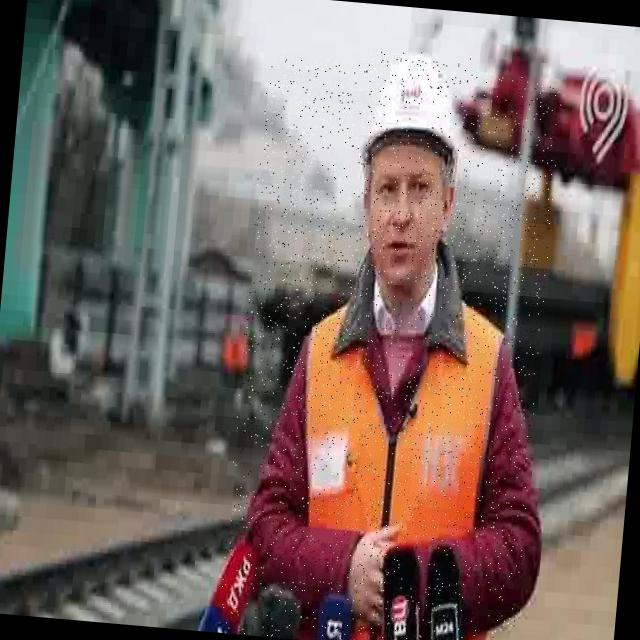hard_hat: (357, 47, 474, 182)
safety_vest: (274, 285, 516, 640)
vehicle: (217, 54, 562, 640)
